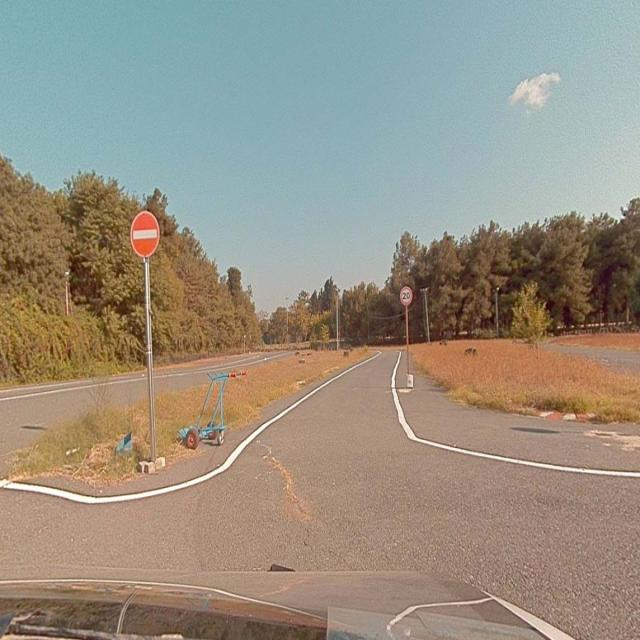20: (401, 286, 412, 304)
girisyok: (130, 212, 159, 254)
